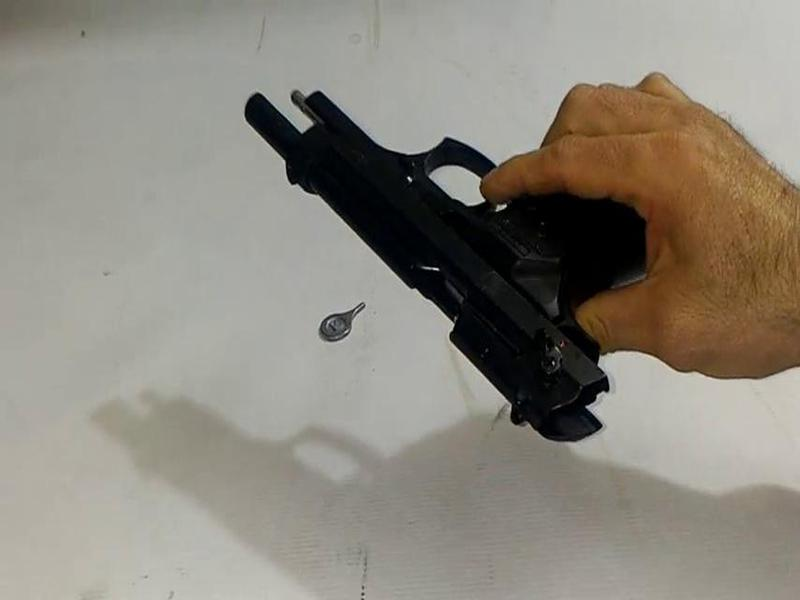Pistola: (237, 60, 691, 443)
